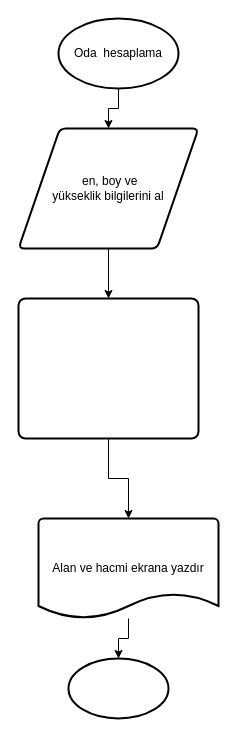
This 236x736 diagram has some shape labels left out. The shapes that lost their labels are listed below. From the top down, each one's centre as x and y in pixels, then its label:
the point at 108,368: alan = en * boy hacim = alan * yükseklik
the point at 118,688: Bitir
